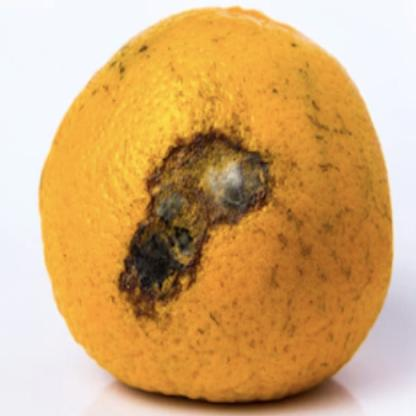rotten: (40, 8, 393, 400)
